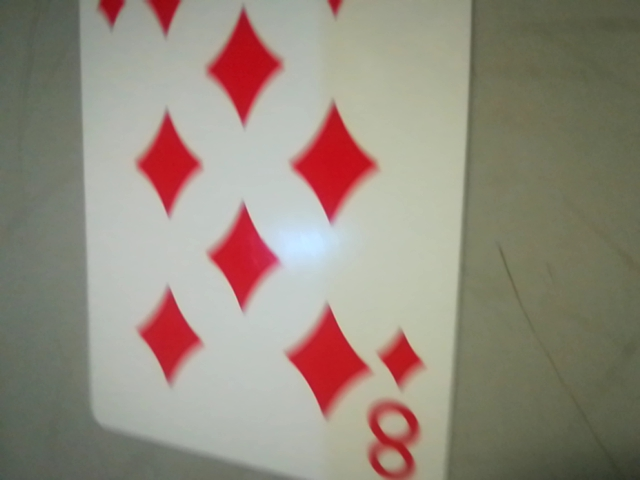fk 8: (357, 323, 438, 480)
